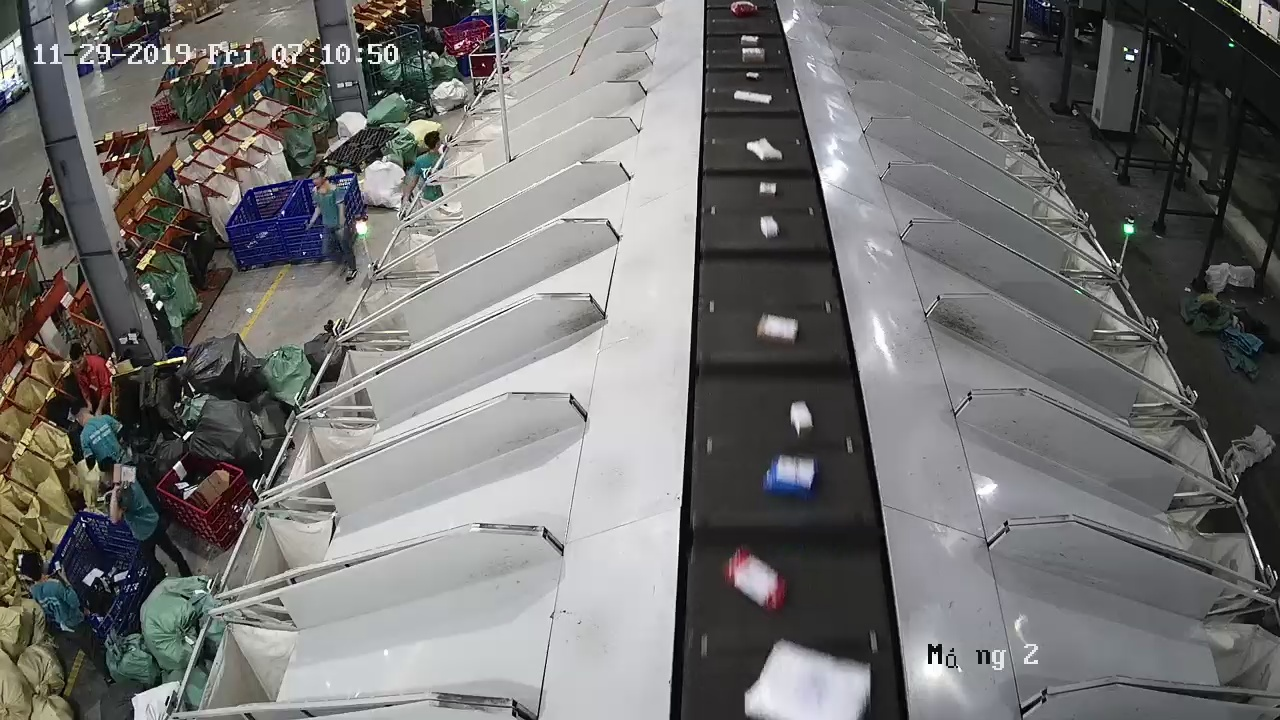parcel: (723, 547, 788, 615), (762, 454, 818, 500), (756, 312, 799, 346), (746, 137, 783, 162), (789, 400, 813, 434), (760, 215, 779, 240), (759, 182, 777, 197)
